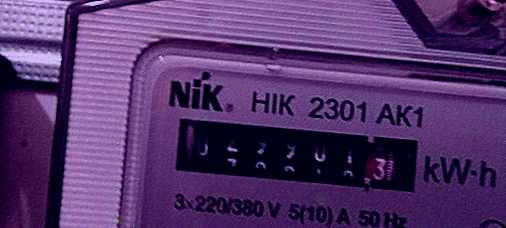0: (191, 128, 211, 157), (310, 133, 328, 164)
1: (341, 135, 356, 164)
2: (221, 125, 242, 153)
3: (368, 153, 388, 181)
9: (251, 128, 270, 156), (282, 132, 297, 160)
screen: (164, 106, 429, 202)
